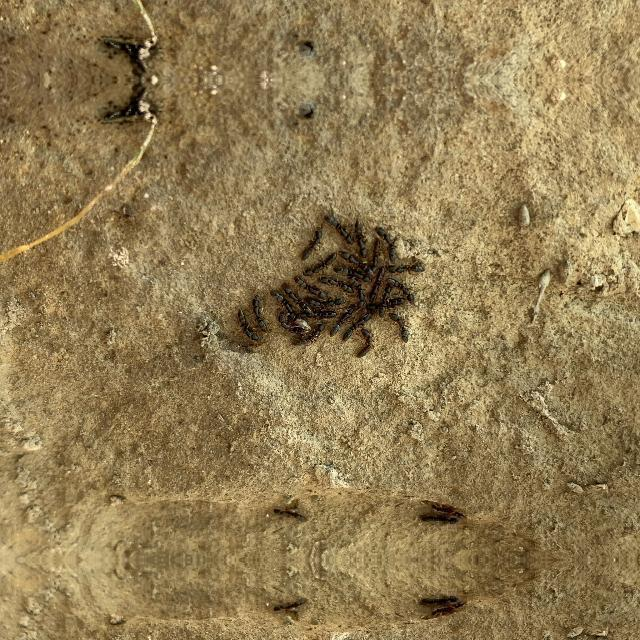Ponera: (270, 493, 318, 535), (270, 585, 318, 627), (318, 200, 360, 244), (294, 216, 334, 260), (380, 214, 408, 266), (388, 307, 420, 345), (294, 270, 334, 300), (341, 263, 382, 291), (419, 508, 465, 532), (419, 588, 465, 612), (330, 302, 360, 338), (374, 274, 398, 318), (388, 255, 424, 283), (278, 284, 310, 314), (318, 273, 357, 297), (342, 315, 371, 347), (232, 302, 254, 344), (250, 290, 270, 336), (343, 240, 375, 268), (308, 242, 337, 272), (300, 304, 338, 326), (354, 328, 382, 357), (362, 296, 411, 312), (350, 214, 366, 256), (270, 290, 294, 316)
